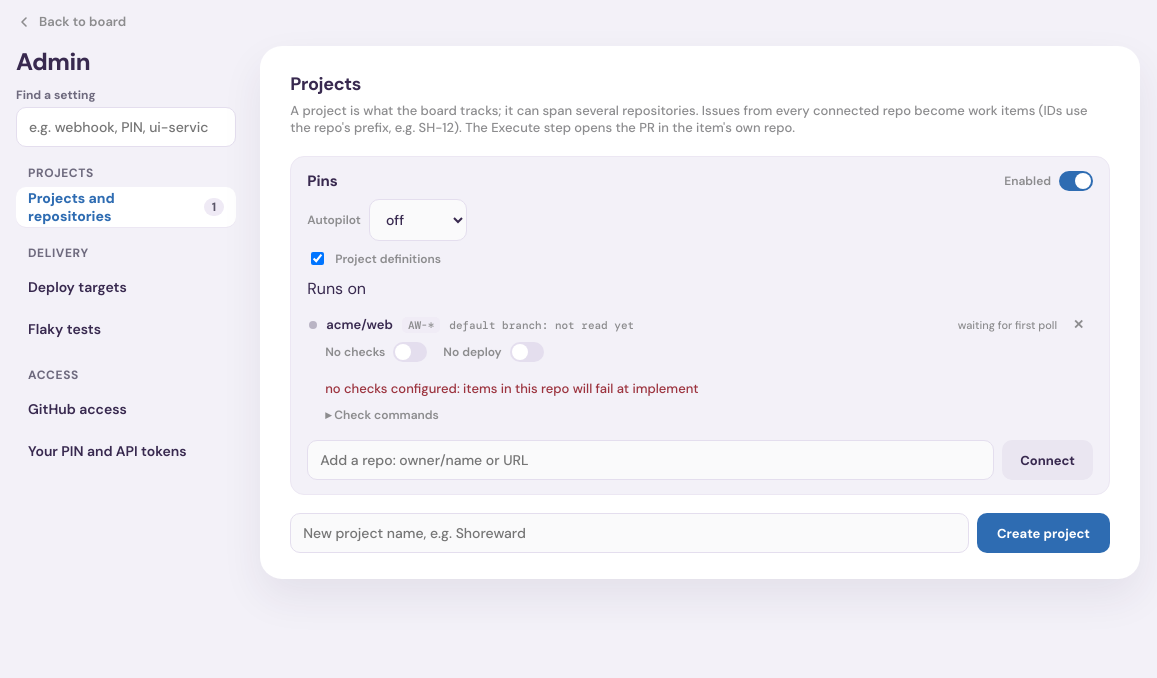
Test: a 401 shows "Wrong PIN" and the repo row stays
Click the button "✕" at (1079, 324), box [1066,314,1091,335]
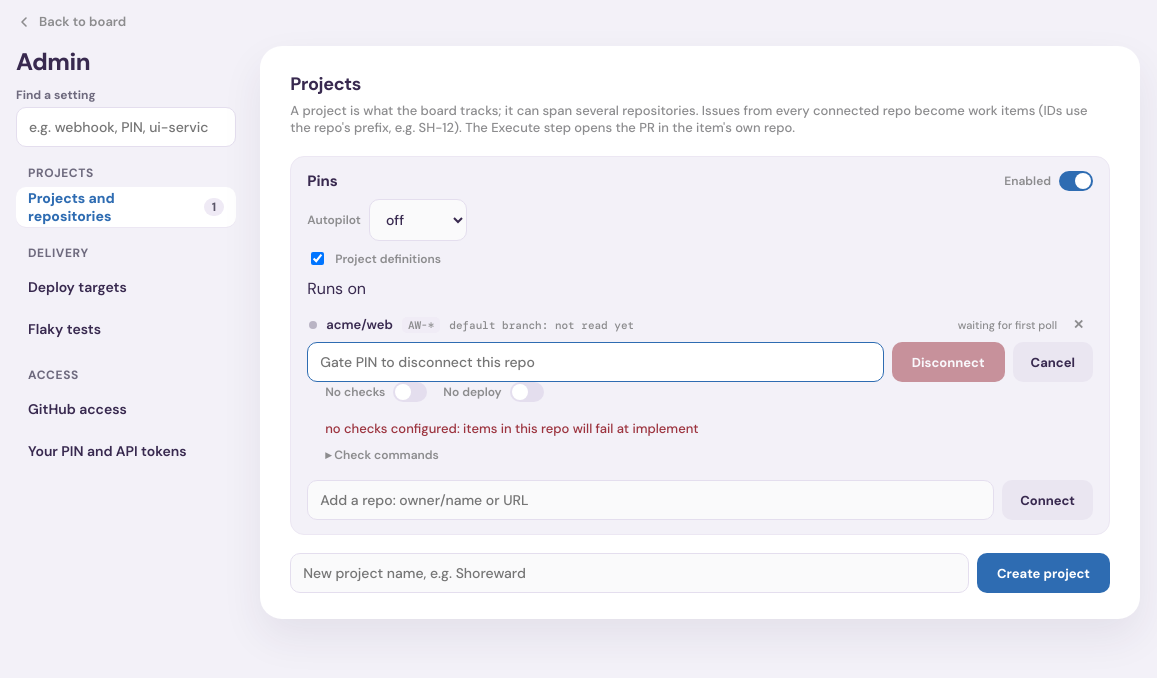
Type "000000" into the password field with placeholder "Gate PIN to disconnect this repo" at (595, 362), box [307,342,884,382]
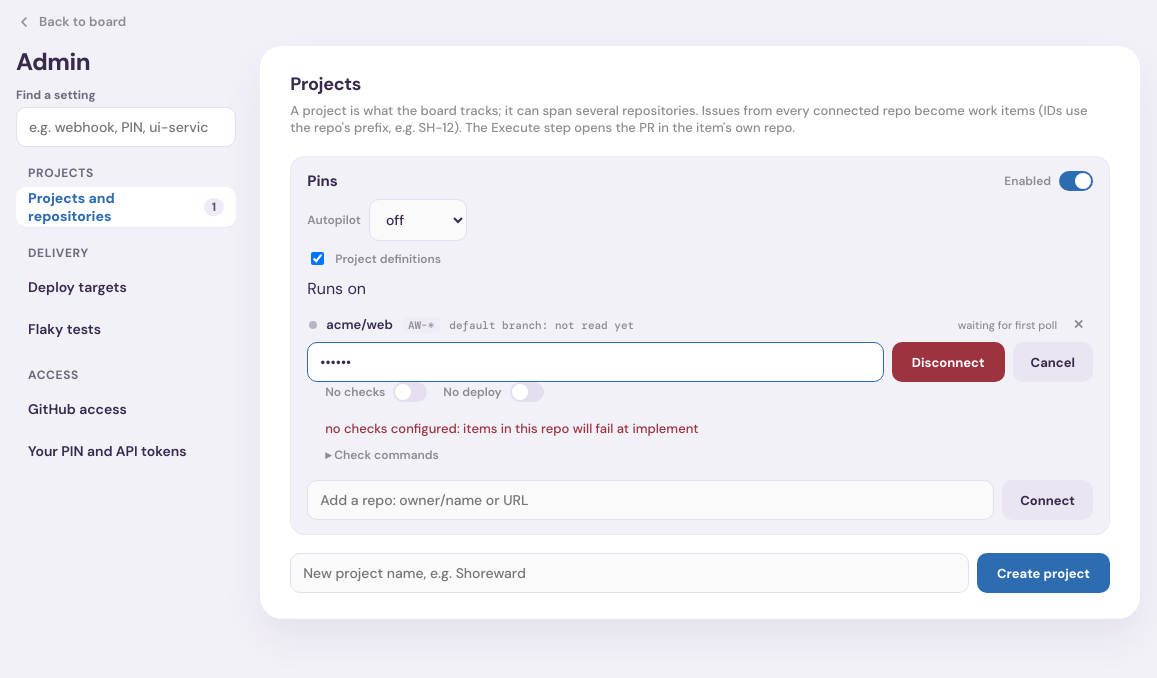
Click the button "Disconnect" at (948, 362), box [892,342,1005,382]
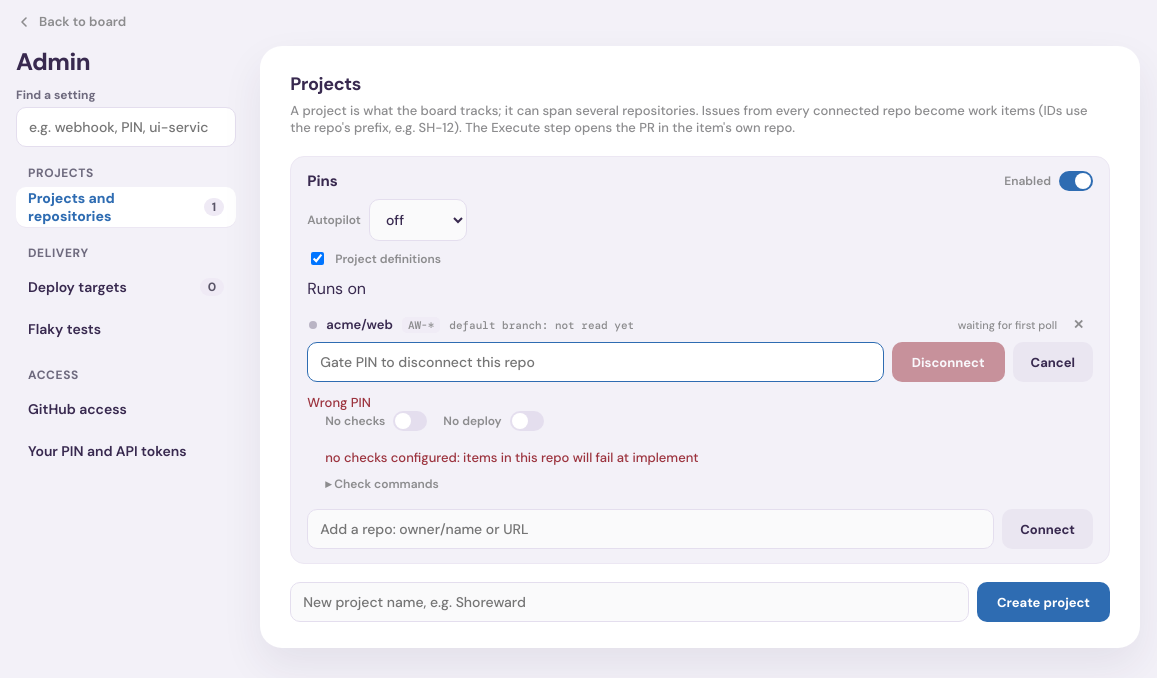
Check: the link with class "repo-row__name" reads "acme/web", box [326,316,393,333]
Check: the text "Wrong PIN" is shown, box [307,394,371,411]
